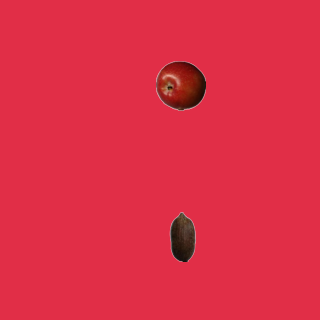Apple Braeburn: (155, 60, 205, 110)
Nut Pecan: (157, 211, 207, 261)
